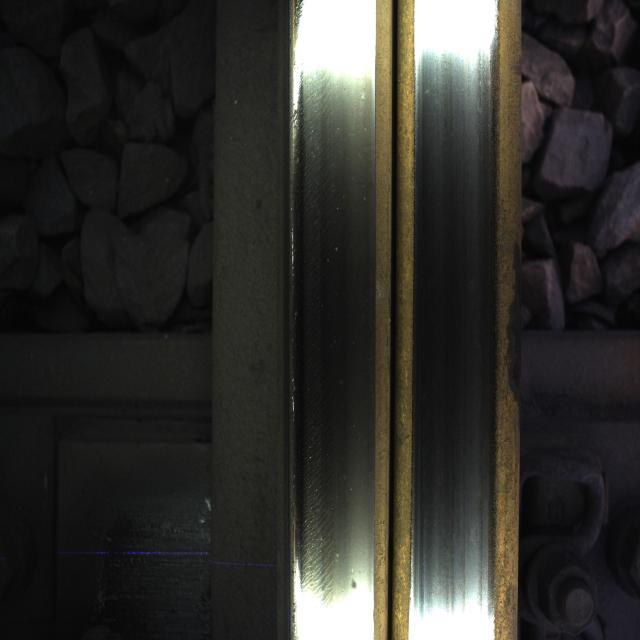break: (422, 65, 493, 536)
normal: (289, 59, 350, 571)
